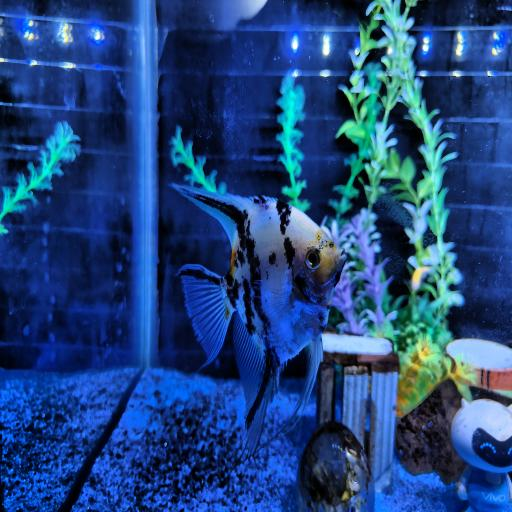Fish: (172, 184, 346, 456)
